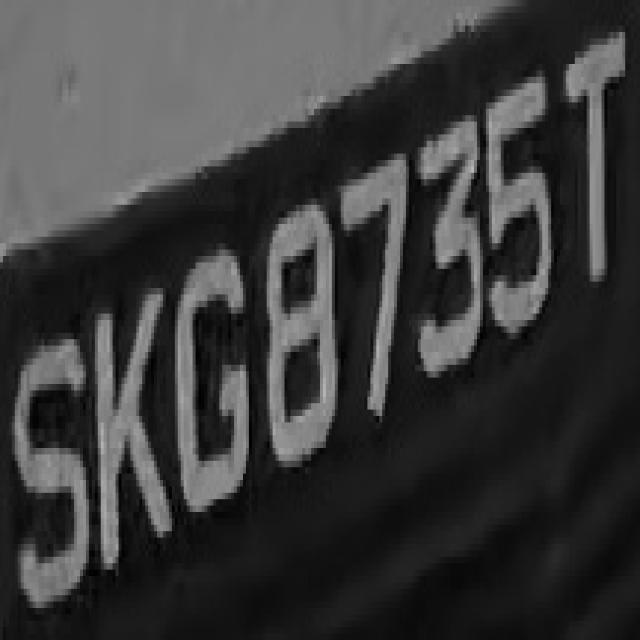3: (412, 116, 489, 390)
5: (480, 58, 560, 358)
7: (332, 154, 415, 435)
8: (258, 198, 344, 486)
G: (175, 230, 255, 532)
K: (86, 275, 175, 576)
S: (12, 308, 92, 614)
T: (548, 26, 637, 294)
